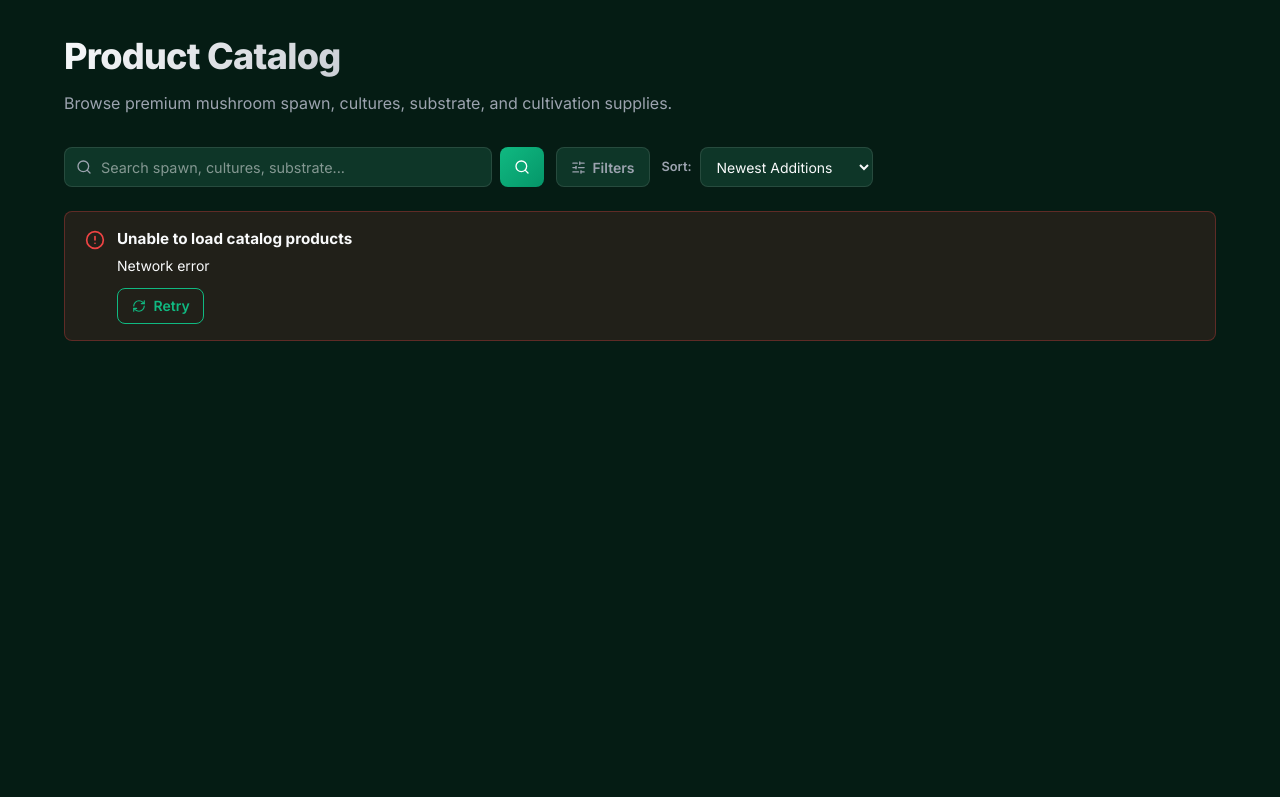
Scenario: CatalogEndToEnd — retry and state flows (FD-09) › retry after failure shows products
The width and height of the screenshot is (1280, 797).
Expected: the element with test id "products-error" is shown, 64,211 -> 1216,341
Click the button "Retry".
click(161, 306)  # box 117,288 -> 204,324
(page scrolled)
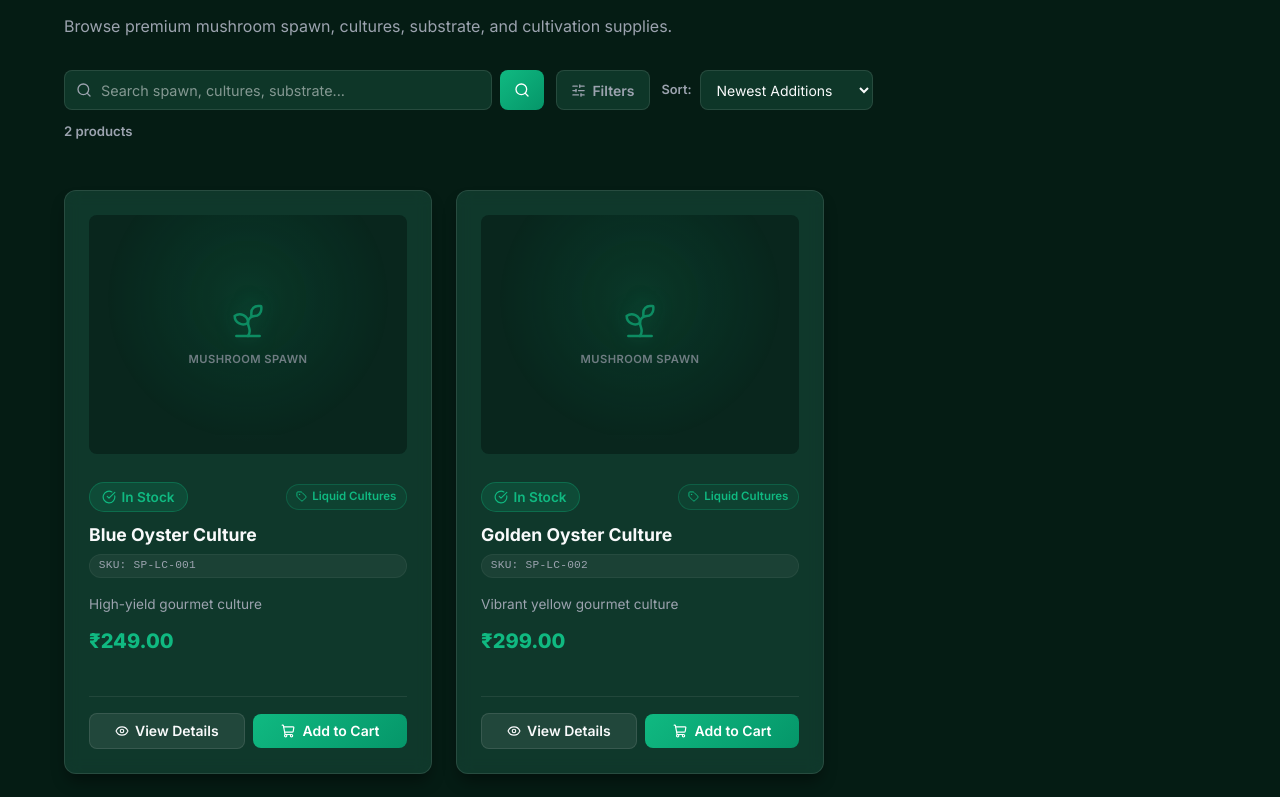
Expected: the element with test id "products-grid" is shown, 64,190 -> 824,774
